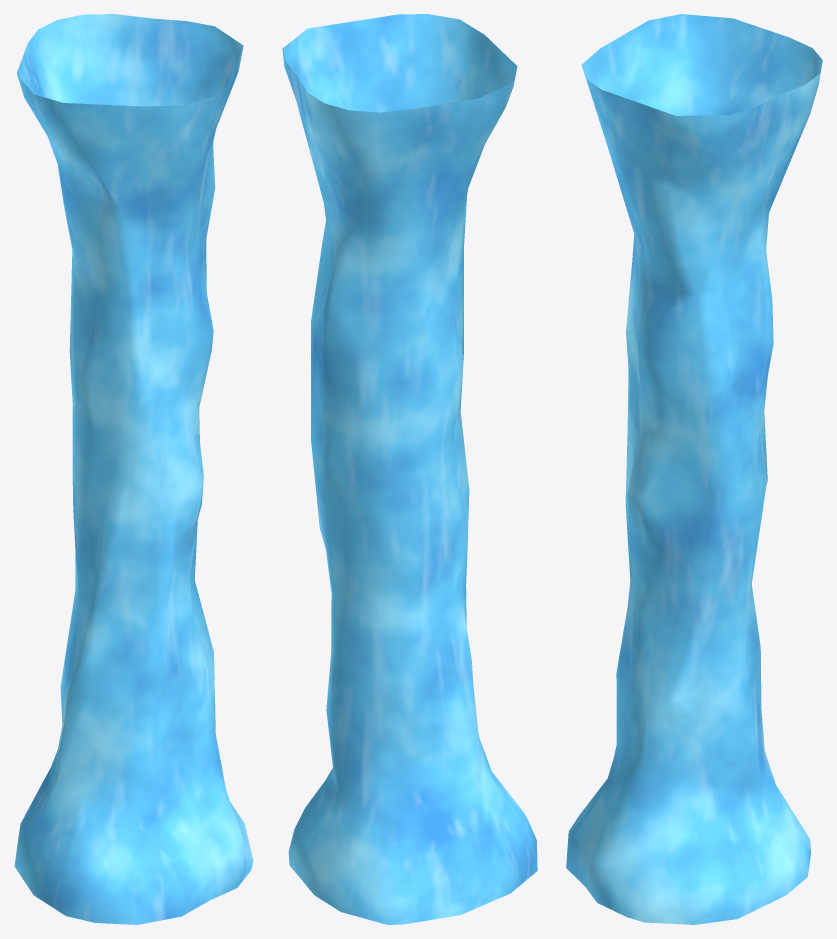
Rendered from SM_Ice_Pillar_1.glb.
The picture shows the model from 3 angles, left to right: view 1: azimuth 30°, elevation 25°; view 2: azimuth 150°, elevation 25°; view 3: azimuth 270°, elevation 25°; orthographic projection.
Parts seen in each view (by area): view 1: SM_Ice_Pillar_1; view 2: SM_Ice_Pillar_1; view 3: SM_Ice_Pillar_1.
Part boxes in pixels (box(x1,y1,x2,y2)): SM_Ice_Pillar_1: box(14, 14, 253, 924); SM_Ice_Pillar_1: box(282, 14, 537, 924); SM_Ice_Pillar_1: box(566, 14, 822, 924).
Bounding box in the file's own units: 1.68 × 6.2 × 1.78.
1 material, 1 textured.
